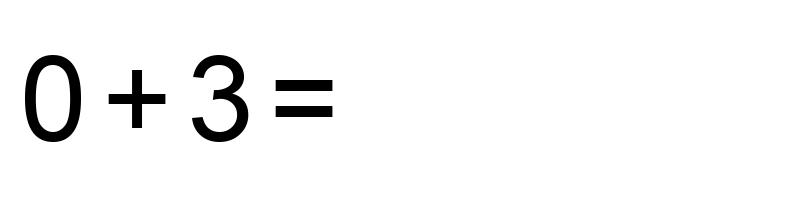+: (102, 32, 172, 167)
0: (20, 32, 87, 167)
3: (187, 32, 254, 167)
=: (269, 32, 339, 167)
